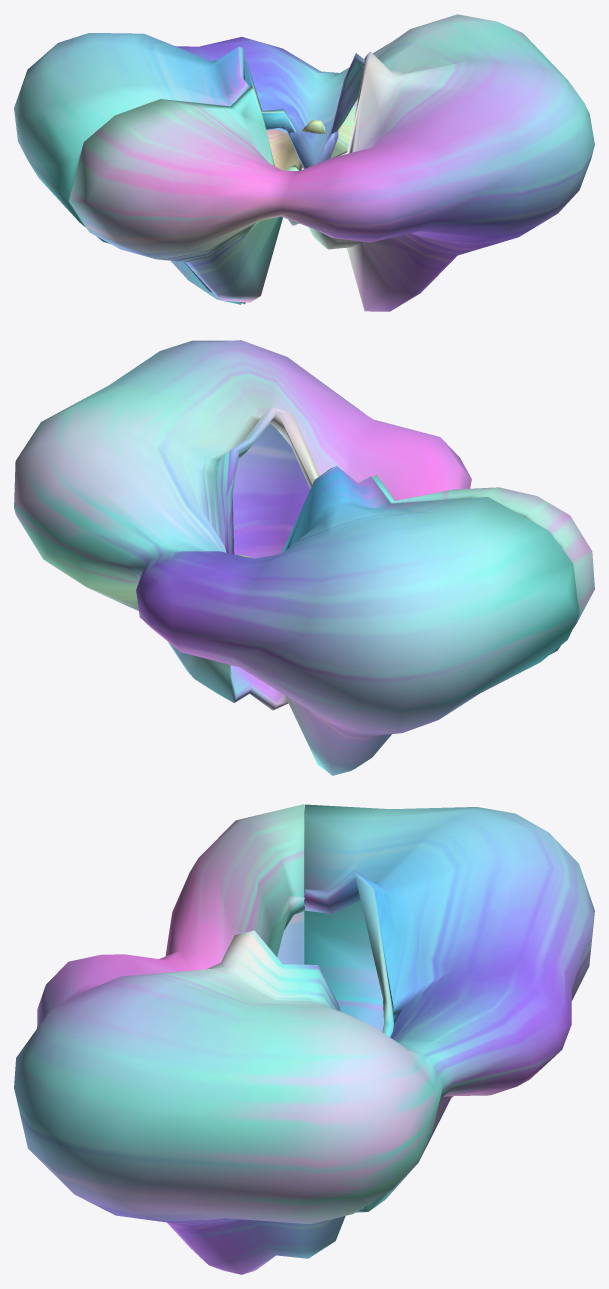
File: randomshape3.glb
3 renders of one model, top to bottom at view 1: azimuth 30°, elevation 25°; view 2: azimuth 150°, elevation 25°; view 3: azimuth 270°, elevation 25°, orthographic. The views are drawn at different scales.
Parts seen in each view (by area): view 1: SuperShapesMesh.003; view 2: SuperShapesMesh.003; view 3: SuperShapesMesh.003.
Part boxes in pixels (x1=…): SuperShapesMesh.003: x1=14, y1=14, x2=594, y2=311; SuperShapesMesh.003: x1=14, y1=340, x2=594, y2=775; SuperShapesMesh.003: x1=14, y1=804, x2=594, y2=1274.
Bounding box in the file's own units: 7.73 × 4.04 × 6.23.
Materials: 1 (1 with a texture image).
